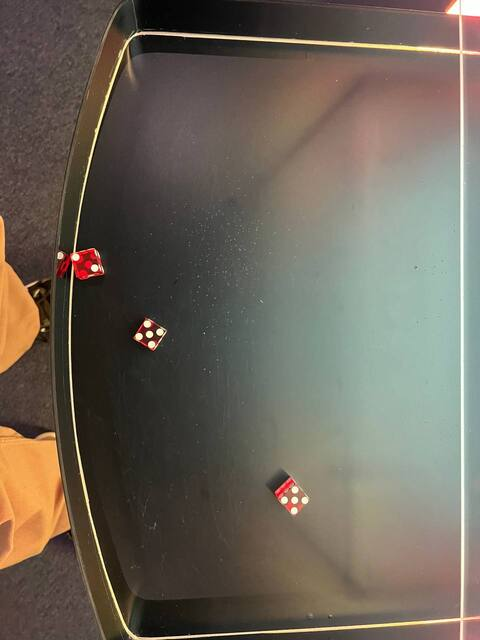five: (130, 314, 170, 353), (274, 480, 314, 519)
two: (67, 244, 102, 281)
